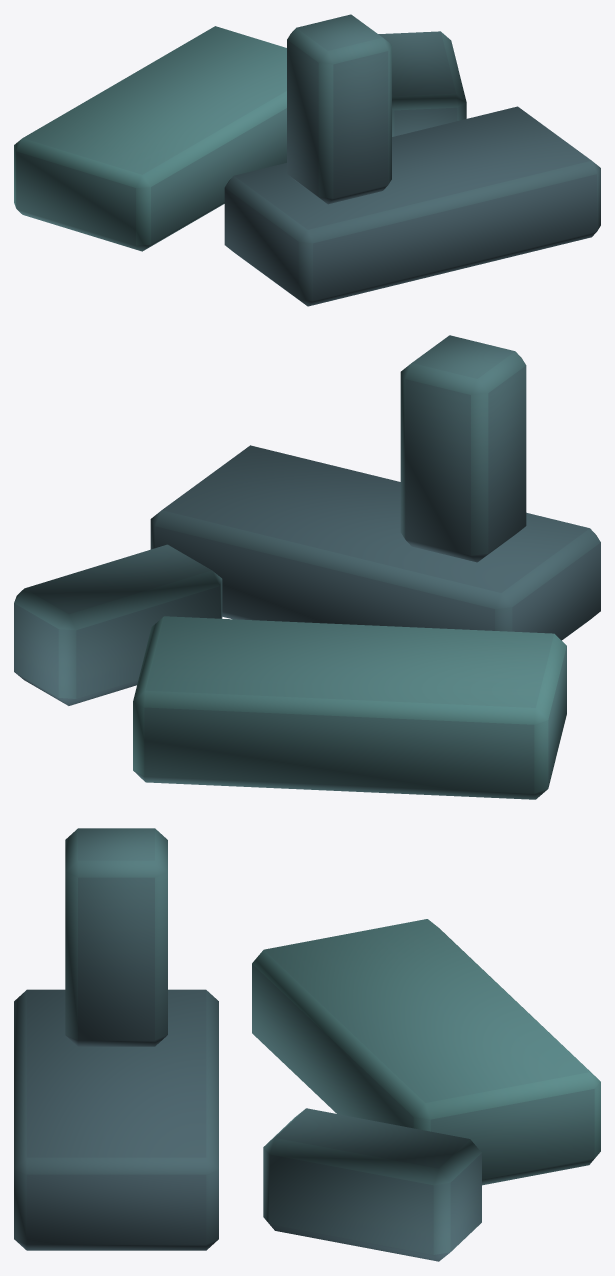
Rendered from fence_01_broken_hue_1.fbx.
The picture shows the model from 3 angles, top to bottom: view 1: azimuth 30°, elevation 25°; view 2: azimuth 150°, elevation 25°; view 3: azimuth 270°, elevation 25°; orthographic projection. The views are drawn at different scales.
Visible parts, largest first — view 1: fence_01_broken_hue_1; view 2: fence_01_broken_hue_1; view 3: fence_01_broken_hue_1.
Part boxes in pixels (x1,y1,x2,y2): fence_01_broken_hue_1: [14, 14, 600, 306]; fence_01_broken_hue_1: [14, 335, 600, 799]; fence_01_broken_hue_1: [14, 828, 600, 1261].
Size of the model in its own units: 150 by 75 by 143.
